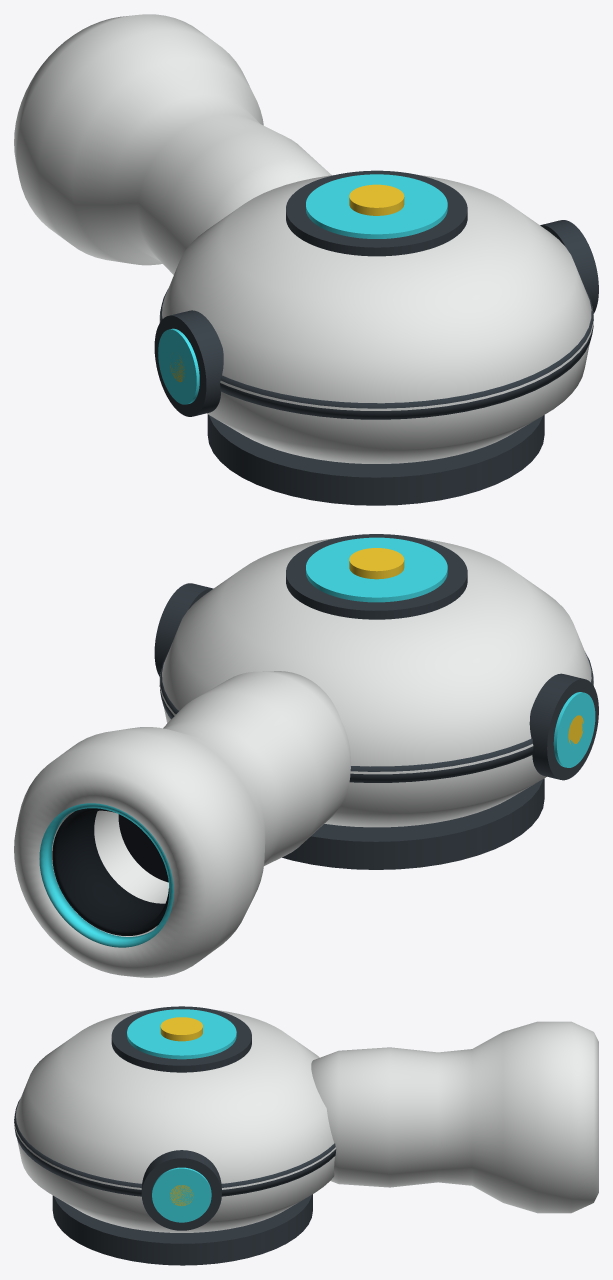
Rendered from bubble_cannon.glb.
3 views of the same model, one above another, from view 1: azimuth 30°, elevation 25°; view 2: azimuth 150°, elevation 25°; view 3: azimuth 270°, elevation 25° (orthographic). The views are drawn at different scales.
Visible parts, largest first — view 1: Batch_109 porcelain.001, Batch_109 porcelain.002, Batch_109 mechanism.002, Batch_109 headlight.002, Batch_109 yellow.002; view 2: Batch_109 porcelain.001, Batch_109 porcelain.002, Batch_109 mechanism.002, Batch_109 recess.002, Batch_109 headlight.002, Batch_109 headlight.001, Batch_109 yellow.002; view 3: Batch_109 porcelain.001, Batch_109 porcelain.002, Batch_109 mechanism.002, Batch_109 headlight.002, Batch_109 yellow.002.
Part boxes in pixels (left/top/right/bottom): Batch_109 porcelain.001: left=159, top=175, right=593, bottom=463; Batch_109 porcelain.002: left=14, top=14, right=331, bottom=274; Batch_109 mechanism.002: left=154, top=170, right=598, bottom=505; Batch_109 headlight.002: left=158, top=174, right=447, bottom=404; Batch_109 yellow.002: left=170, top=184, right=404, bottom=382; Batch_109 porcelain.001: left=159, top=538, right=593, bottom=827; Batch_109 porcelain.002: left=14, top=671, right=350, bottom=977; Batch_109 mechanism.002: left=154, top=534, right=598, bottom=869; Batch_109 recess.002: left=52, top=808, right=169, bottom=935; Batch_109 headlight.002: left=306, top=537, right=595, bottom=767; Batch_109 headlight.001: left=39, top=803, right=173, bottom=947; Batch_109 yellow.002: left=349, top=548, right=583, bottom=745; Batch_109 porcelain.001: left=14, top=1009, right=335, bottom=1232; Batch_109 porcelain.002: left=311, top=1021, right=598, bottom=1213; Batch_109 mechanism.002: left=14, top=1006, right=336, bottom=1265; Batch_109 headlight.002: left=127, top=1009, right=236, bottom=1222; Batch_109 yellow.002: left=160, top=1017, right=202, bottom=1206.
Bounding box in the file's own units: 1.04 × 0.594 × 1.71.
